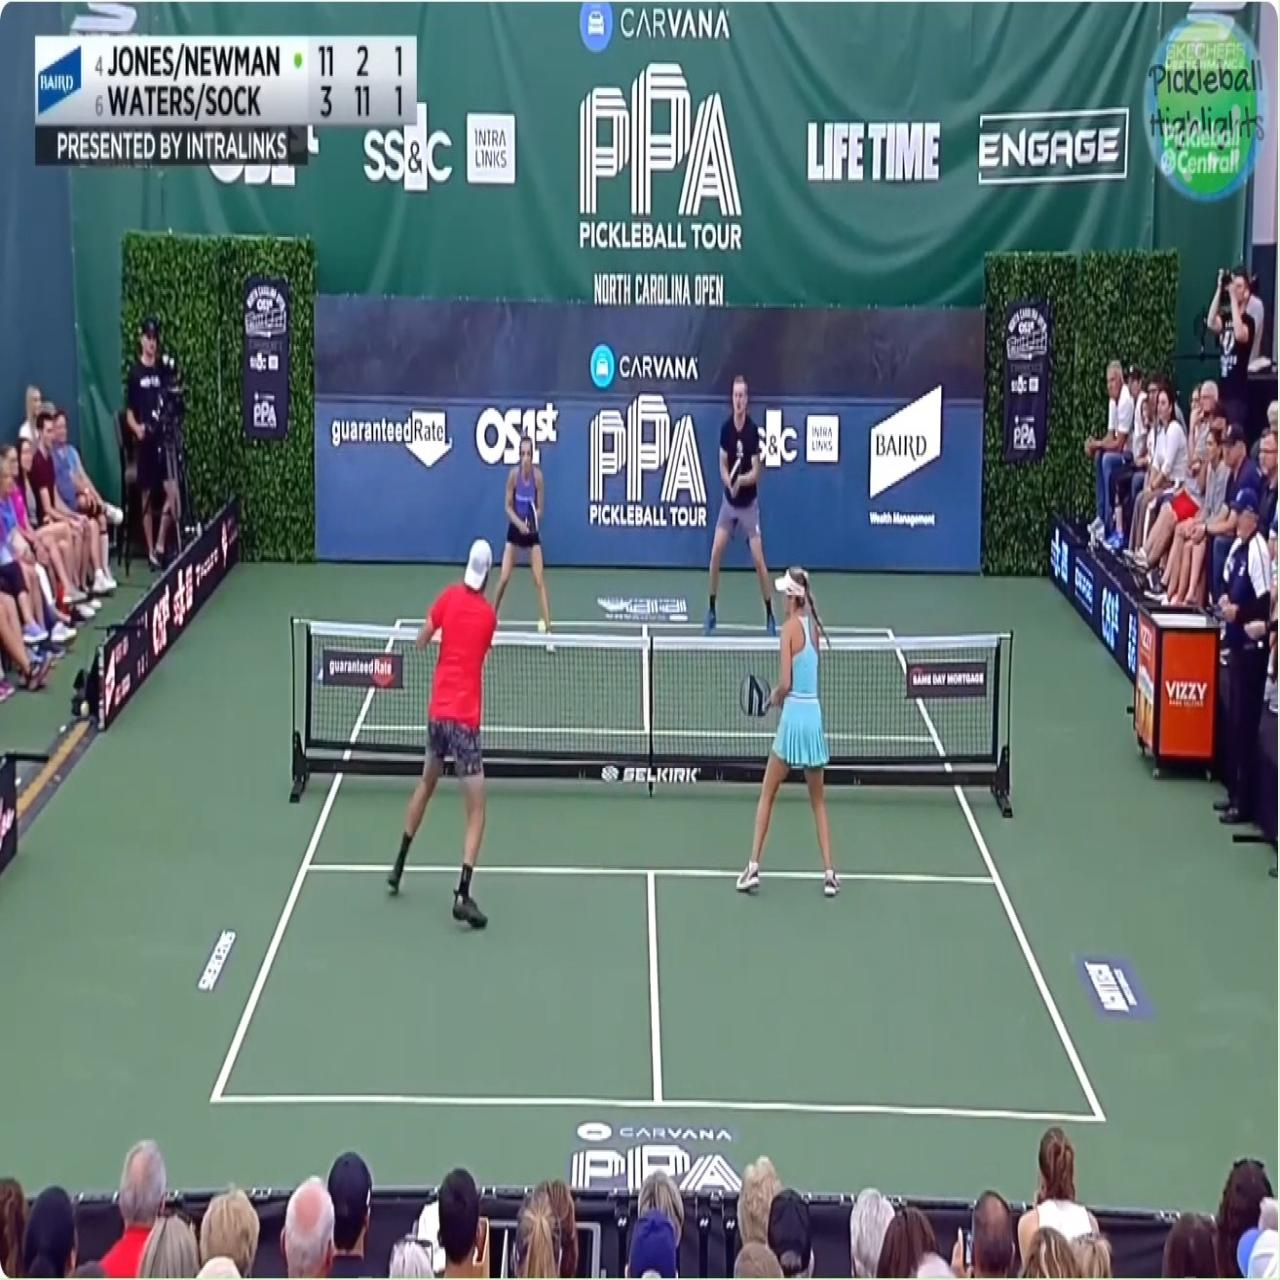pickleball: (537, 619, 549, 633)
